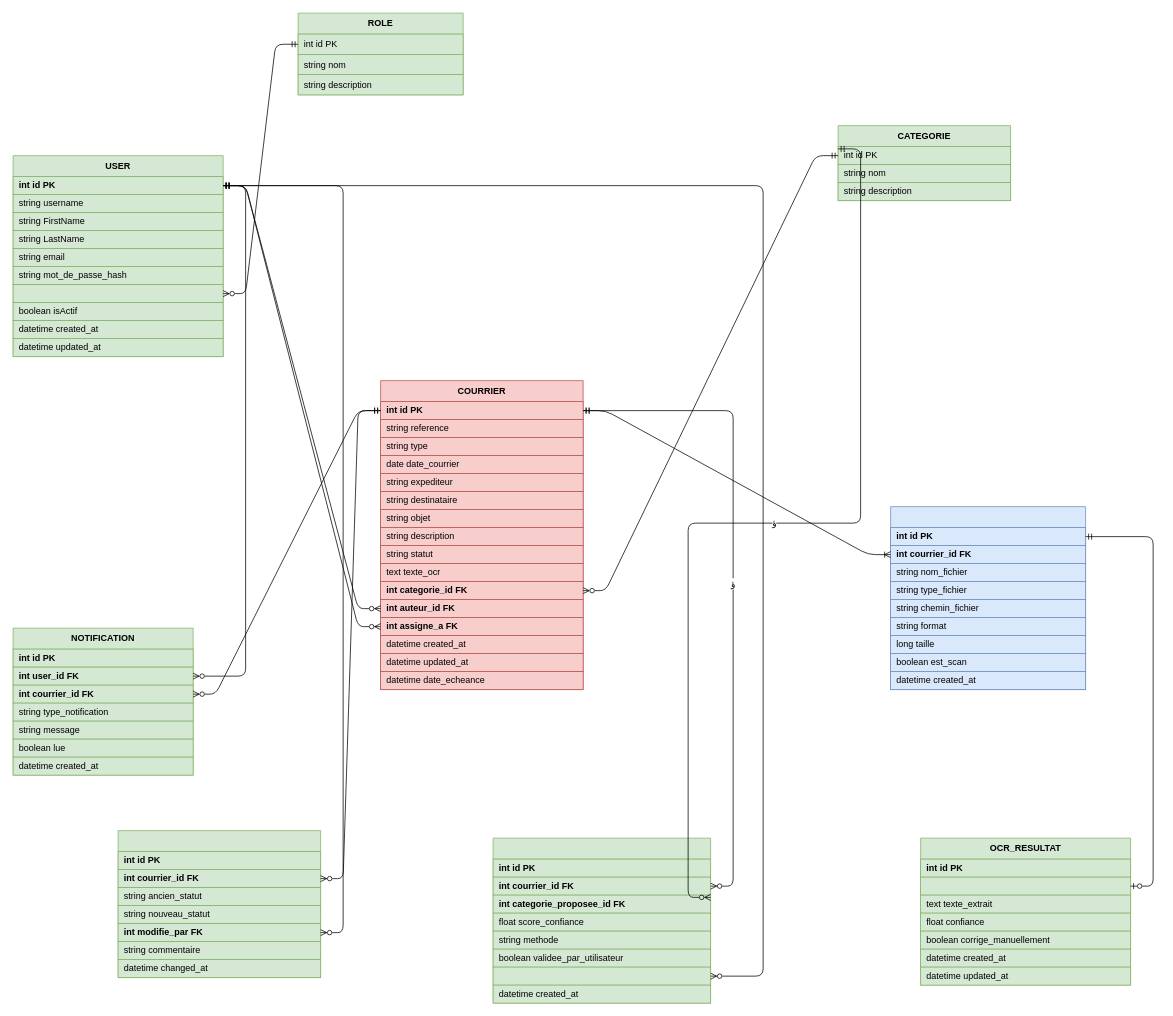
This 1173x1016 diagram has some shape labels left out. Each missing label, with the box of its shape:
CLASSIFICATION: (492, 837, 711, 1003)
HISTORIQUE_STATUT: (117, 830, 321, 978)
int piece_jointe_id FK: (920, 876, 1131, 895)
int role_id FK: (12, 284, 223, 303)
int validee_par FK: (492, 966, 711, 985)
PIECE_JOINTE: (890, 506, 1086, 690)
